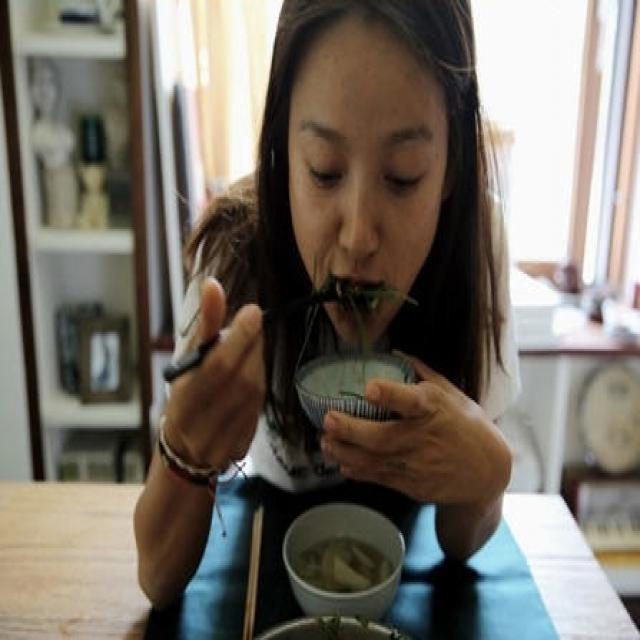eating-person: (133, 2, 520, 640)
